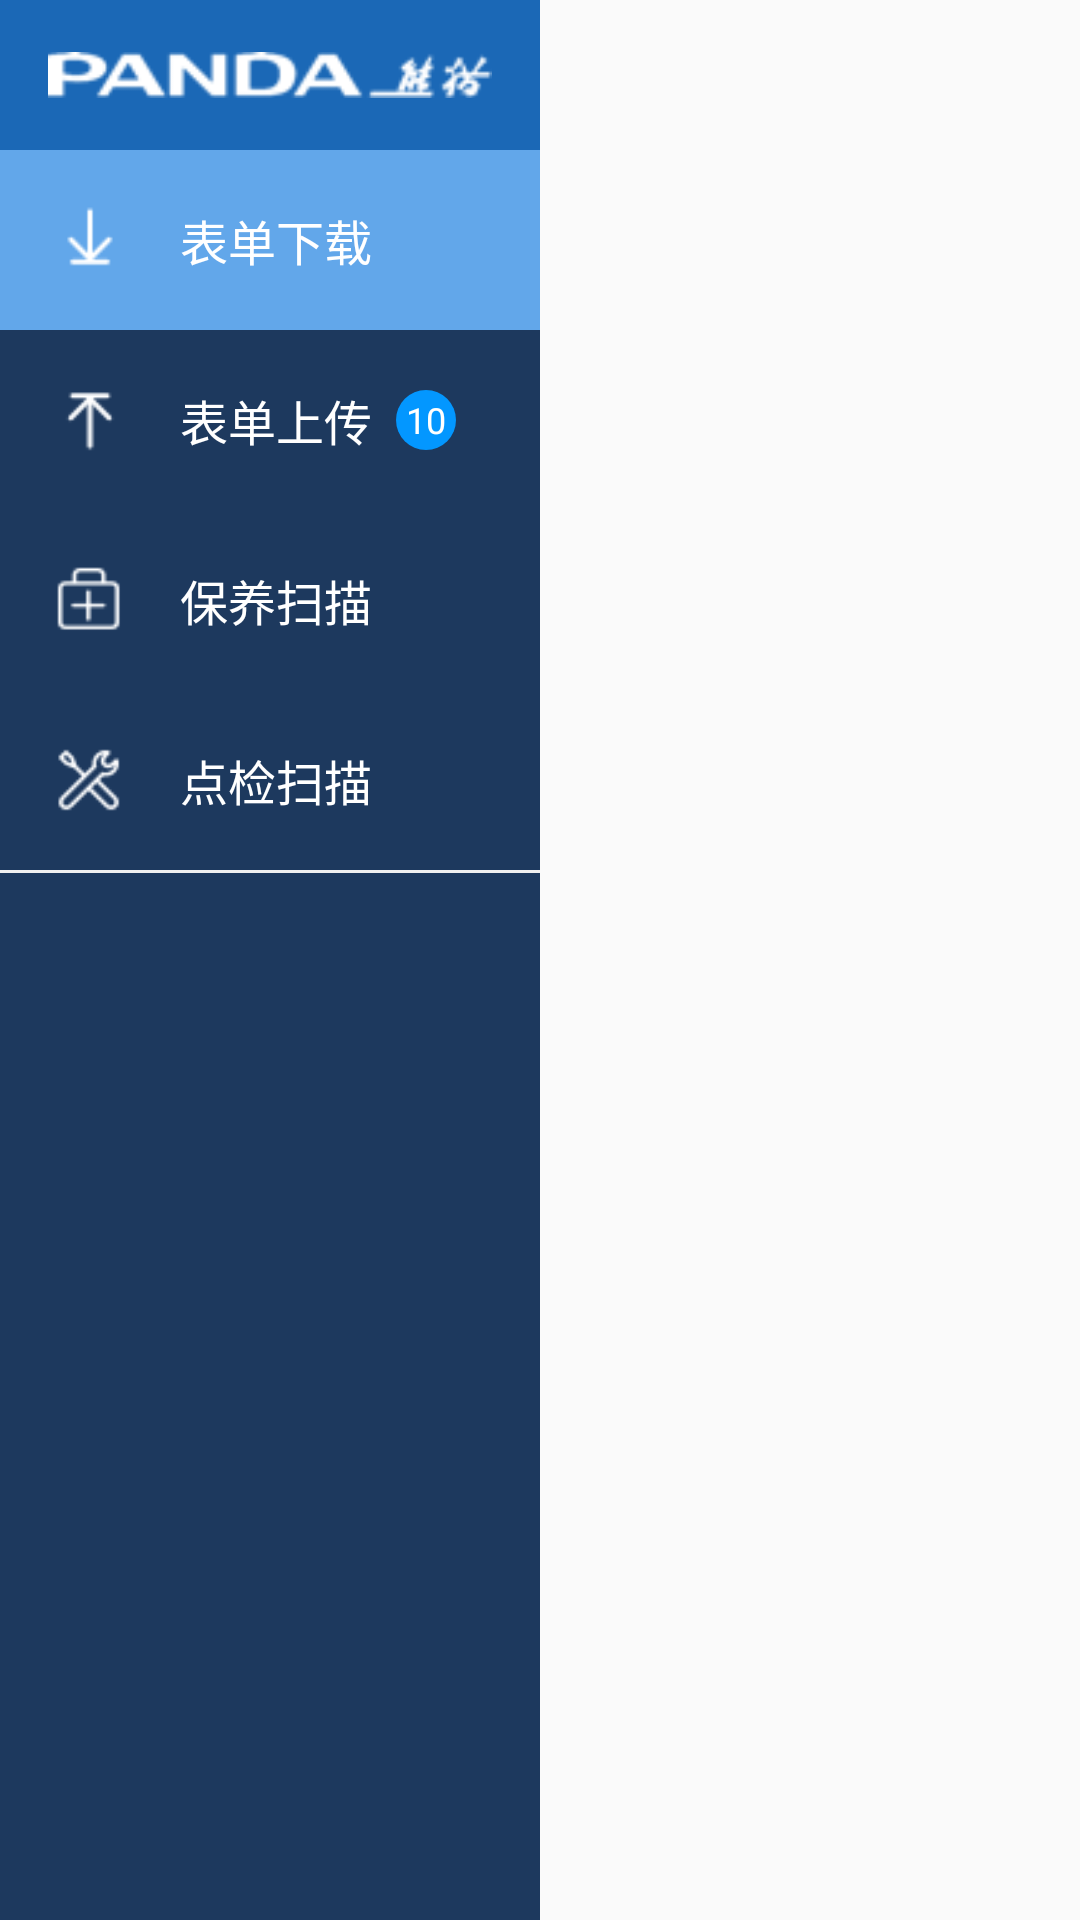

Icon bounding boxes for this 1080×1920 phone screenshot, format box=[x1, y1, x2, y2]:
baoyang: box=[57, 567, 120, 630]
download: box=[67, 208, 113, 265]
repair: box=[58, 749, 120, 811]
upload: box=[68, 392, 112, 450]
